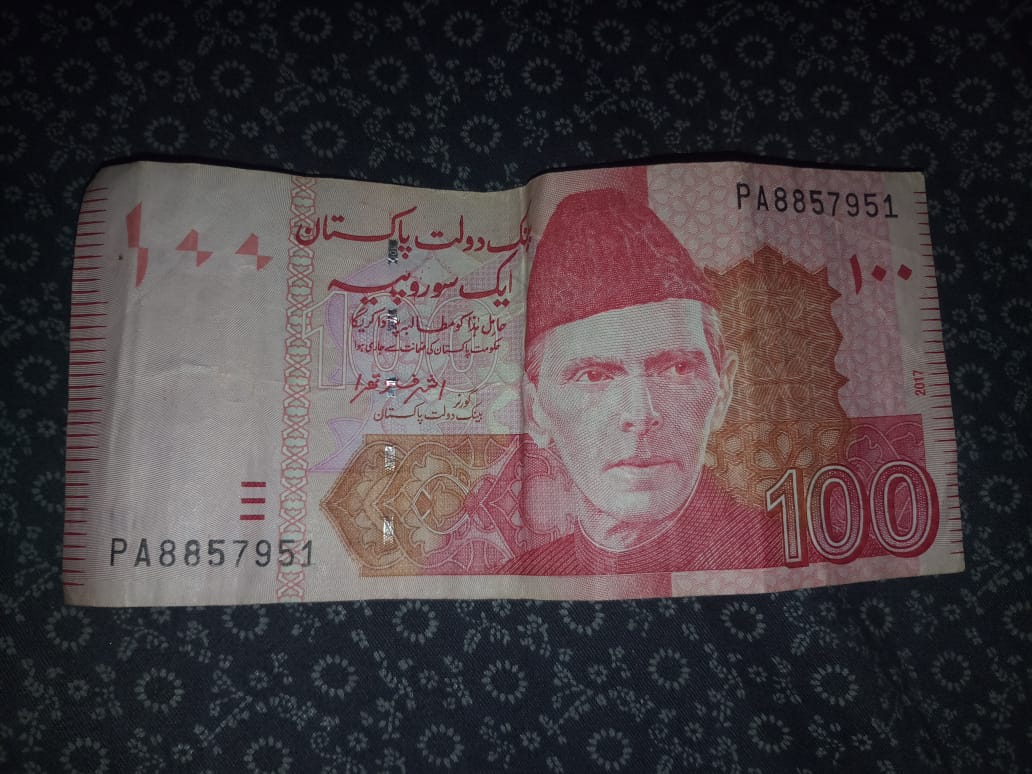100 rupee: (57, 142, 980, 613)
